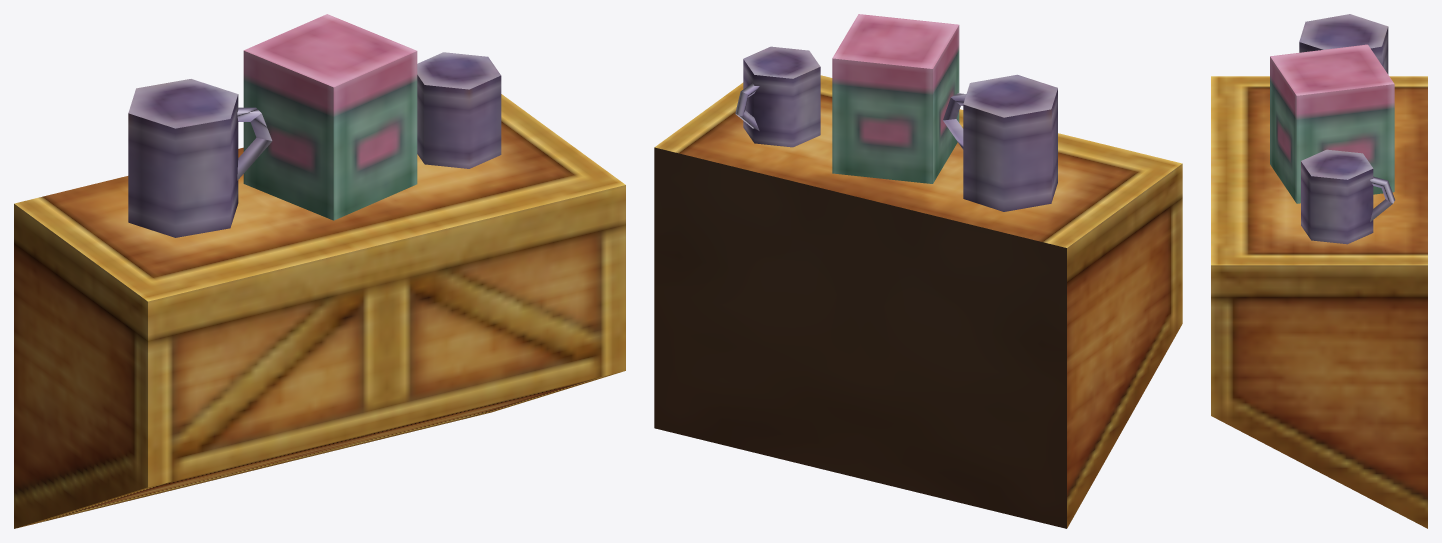
The model's file is a_SWGushelf02.glb.
3 views of the same model, side by side, from view 1: azimuth 30°, elevation 25°; view 2: azimuth 150°, elevation 25°; view 3: azimuth 270°, elevation 25° (orthographic). The views are drawn at different scales.
Visible parts, largest first — view 1: a_SWGushelf02; view 2: a_SWGushelf02; view 3: a_SWGushelf02.
Part boxes in pixels (box(x1,y1,x2,y2)): a_SWGushelf02: box(14, 14, 625, 528); a_SWGushelf02: box(654, 14, 1182, 528); a_SWGushelf02: box(1211, 14, 1427, 528).
Size of the model in its own units: 1 by 0.917 by 0.4851.
1 material, 1 textured.
